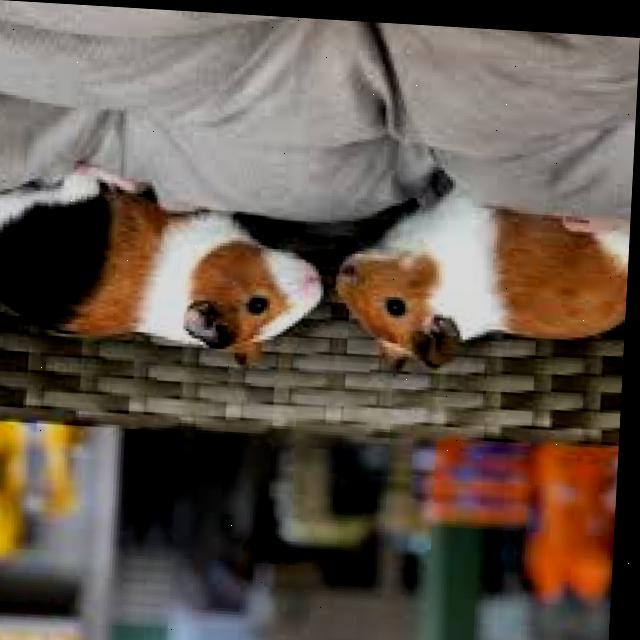guinea pig: (0, 159, 334, 371), (335, 190, 633, 379)
